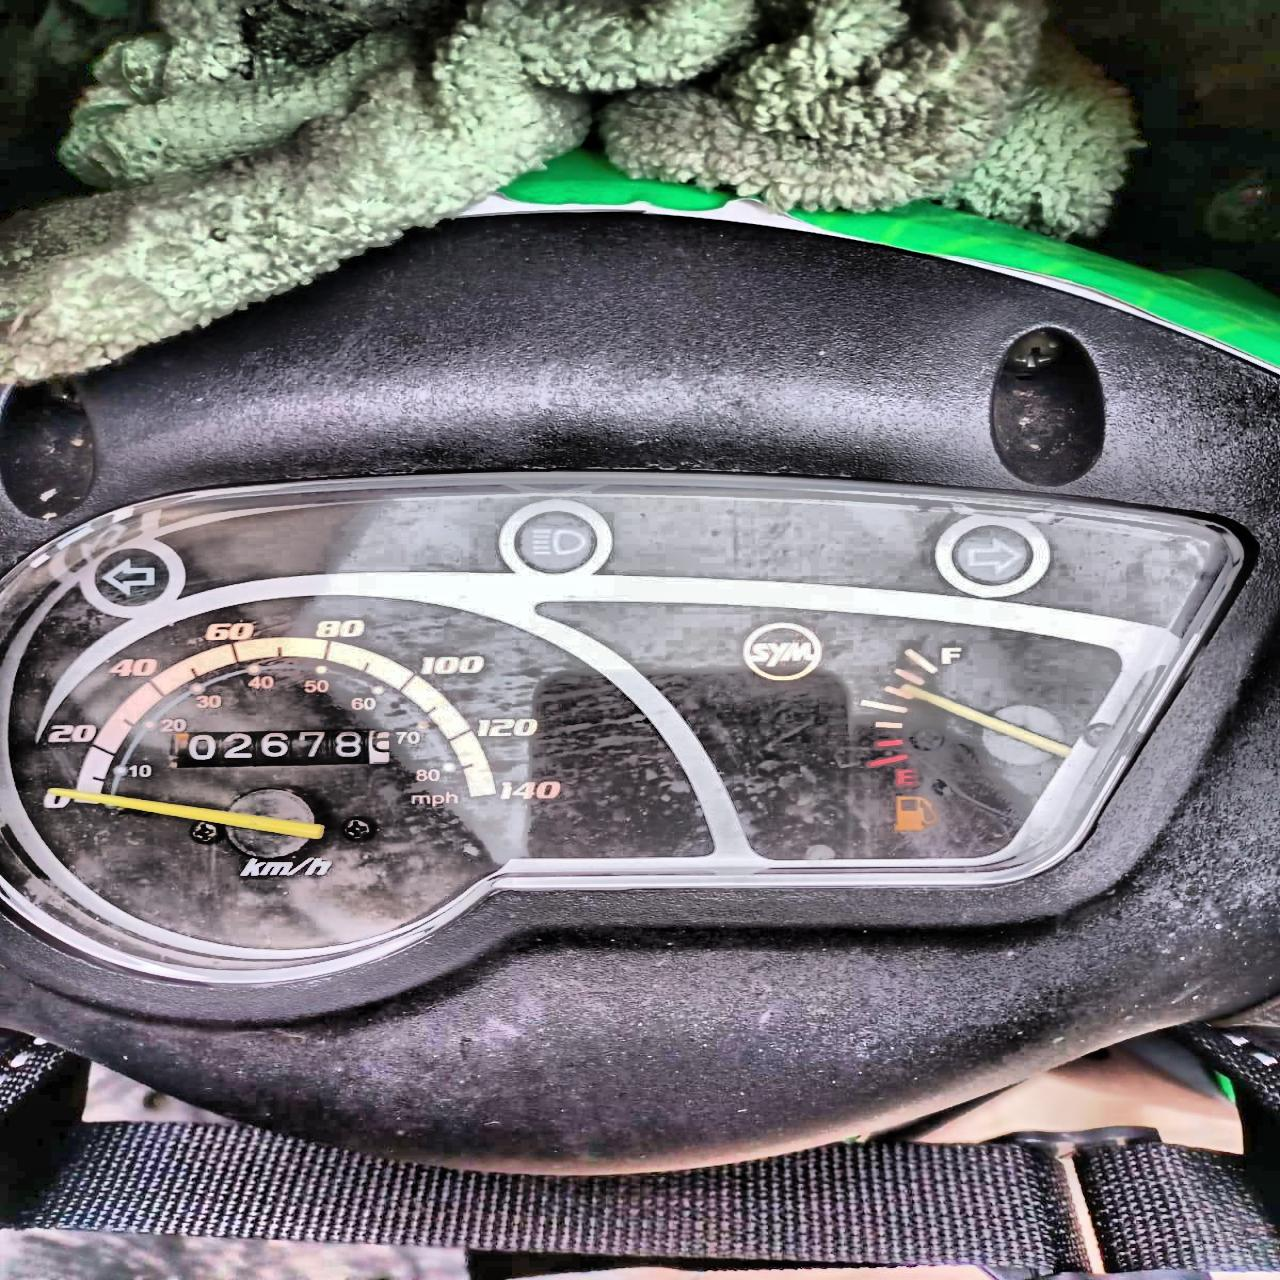0: (185, 733, 216, 762)
2: (220, 730, 254, 760)
6: (261, 730, 287, 760), (369, 729, 393, 756)
7: (294, 729, 326, 758)
8: (332, 730, 362, 760)
odometer: (169, 727, 394, 768)
